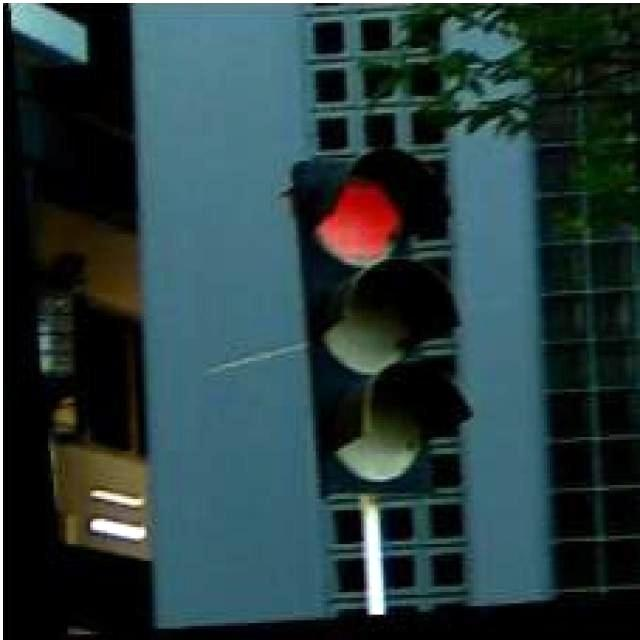Red: (272, 151, 467, 504)
